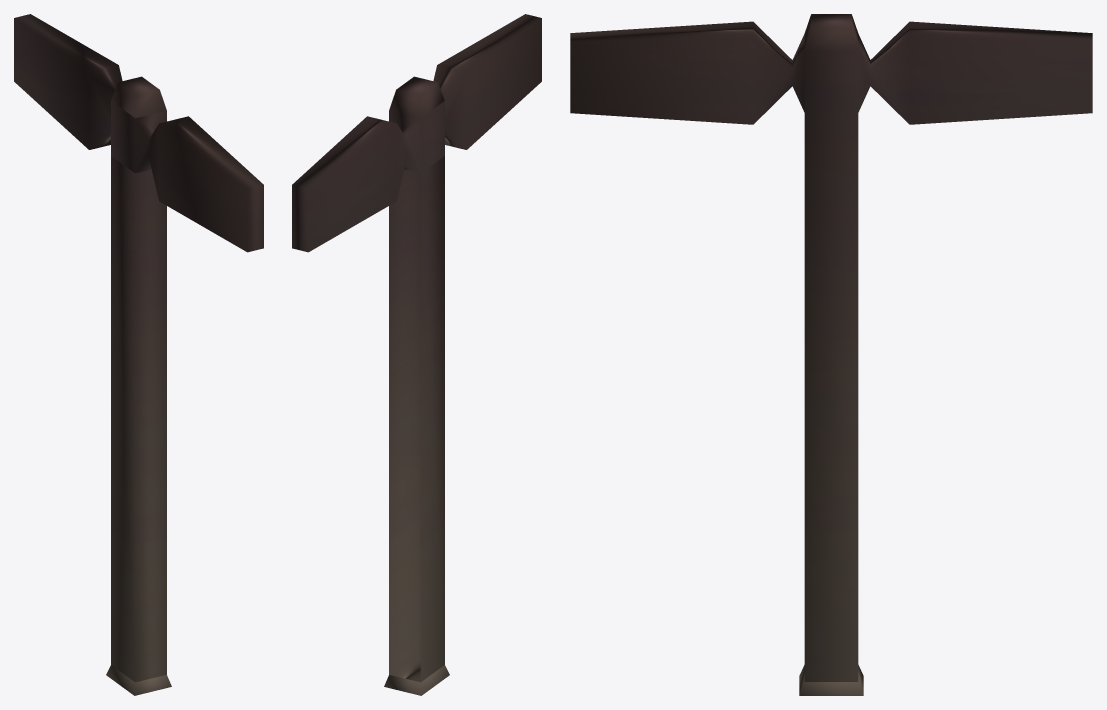
Rendered from Schild.fbx.
3 views of the same model, side by side, from view 1: azimuth 30°, elevation 25°; view 2: azimuth 150°, elevation 25°; view 3: azimuth 270°, elevation 25° (orthographic). The views are drawn at different scales.
Parts seen in each view (by area): view 1: Cube; view 2: Cube; view 3: Cube.
Boxes of the visible parts, box(x1,y1,x2,y2) form: Cube: box(14, 14, 263, 695); Cube: box(292, 14, 541, 695); Cube: box(570, 14, 1092, 695).
Size of the model in its own units: 262 by 3974 by 2826.
